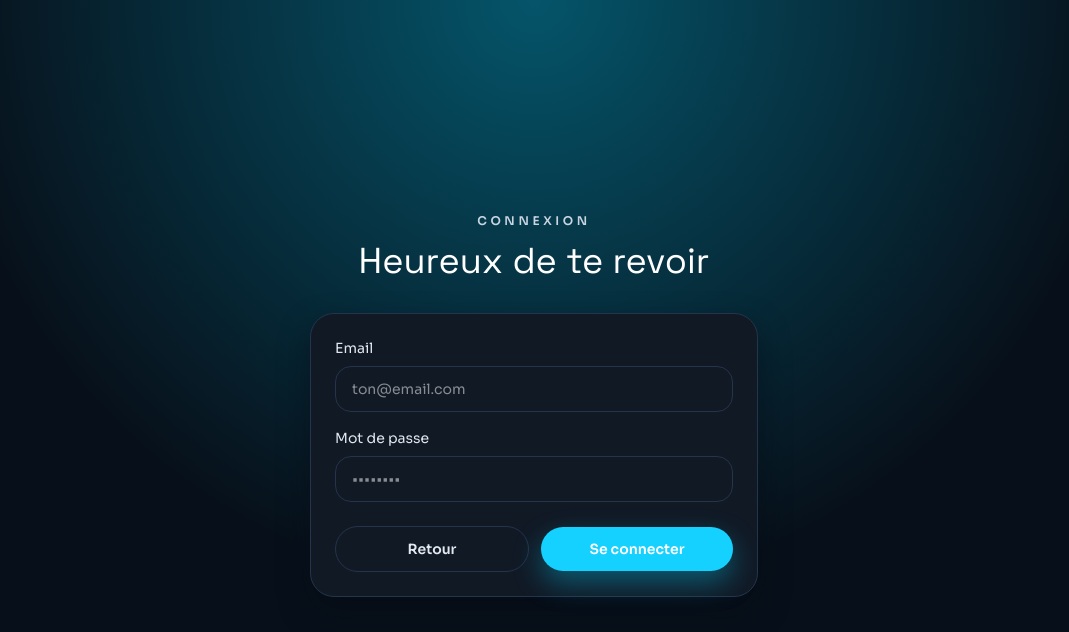
Test: ConnexionPage › shows the api error message when login fails
The image size is (1069, 632).
In the field labelled "Email": (534, 389) x1=335 y1=366 x2=733 y2=412, type "manu@example.com"
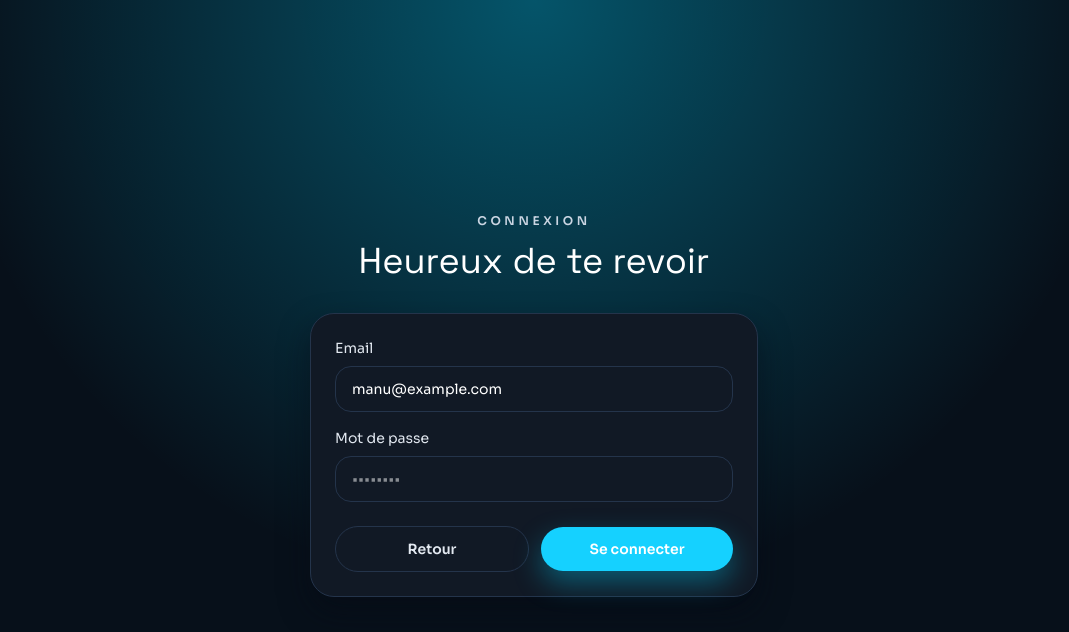
In the password field labelled "Mot de passe": (534, 479) x1=335 y1=456 x2=733 y2=502, type "bad-password"
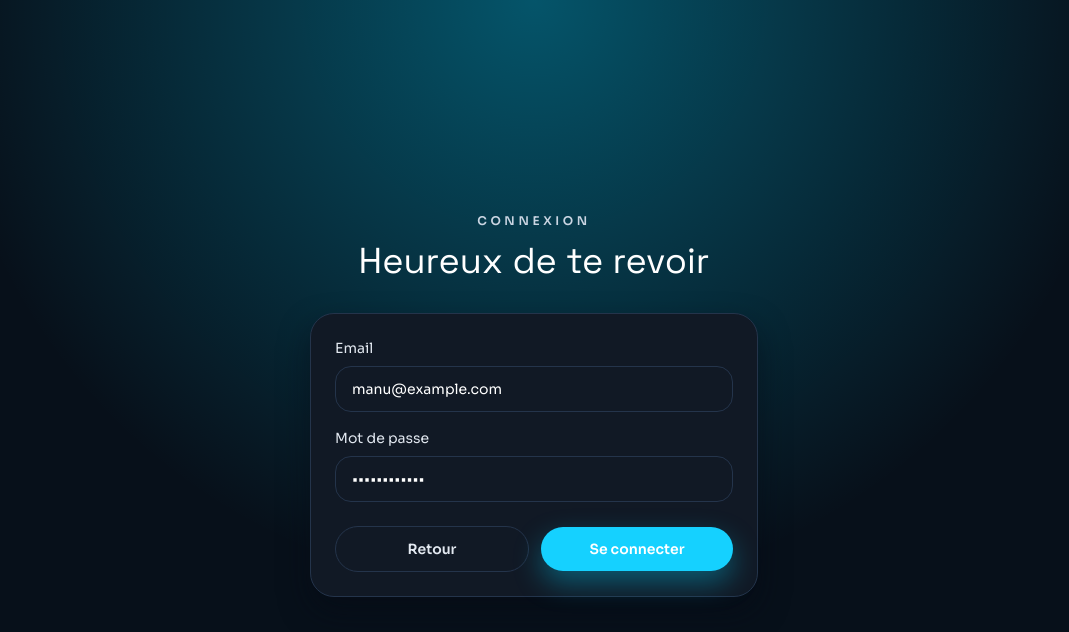
Click the button "Se connecter": (637, 549) x1=541 y1=527 x2=733 y2=571
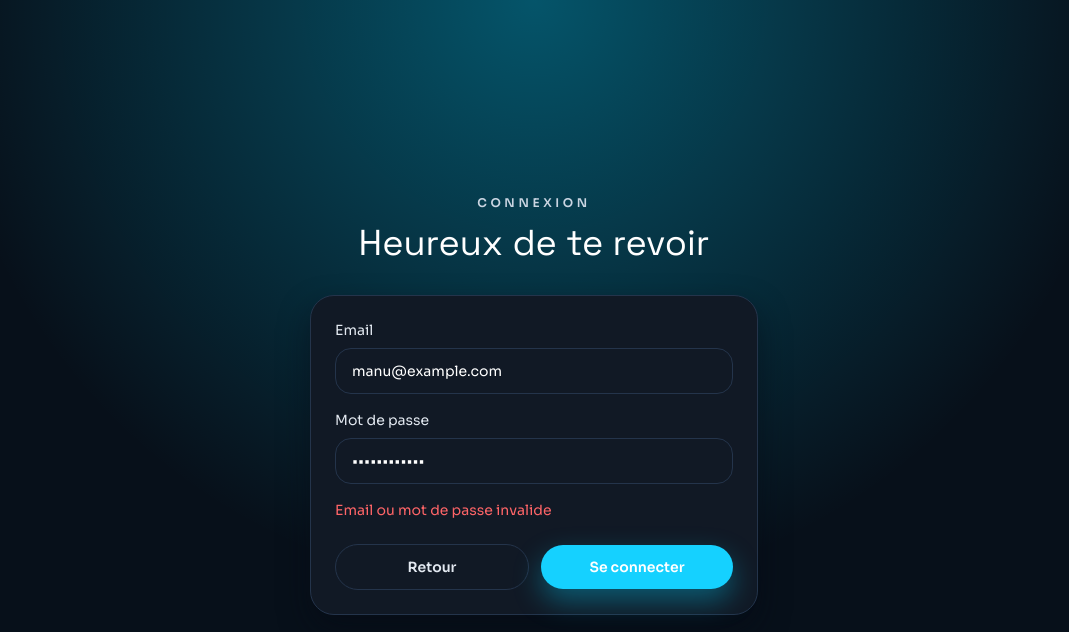
Now the text "Email ou mot de passe invalide" is shown, box x1=335 y1=501 x2=552 y2=519
